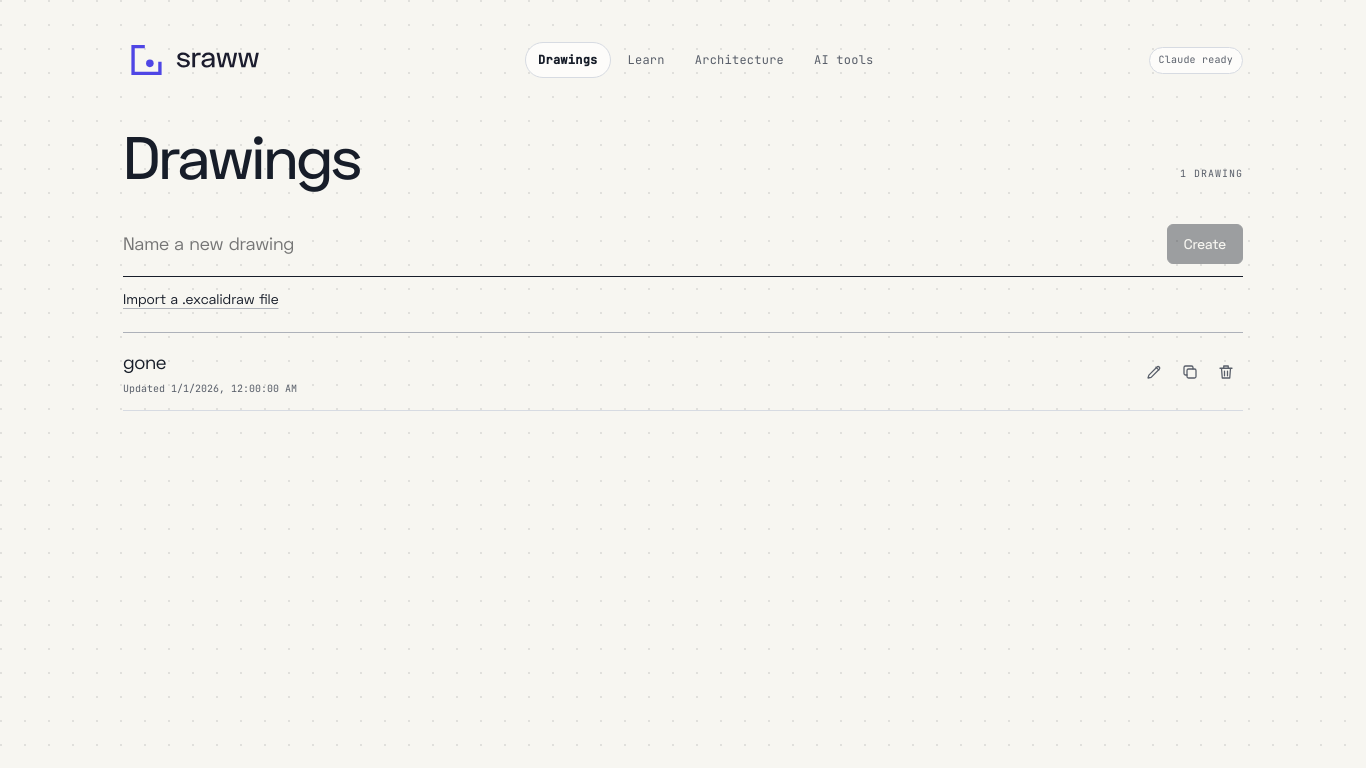
DiagramList › deletes after confirmation and refreshes the list
Step 1. Click the button named "Delete gone" → (1226, 372), box top-left (1209, 355), bottom-right (1243, 389)
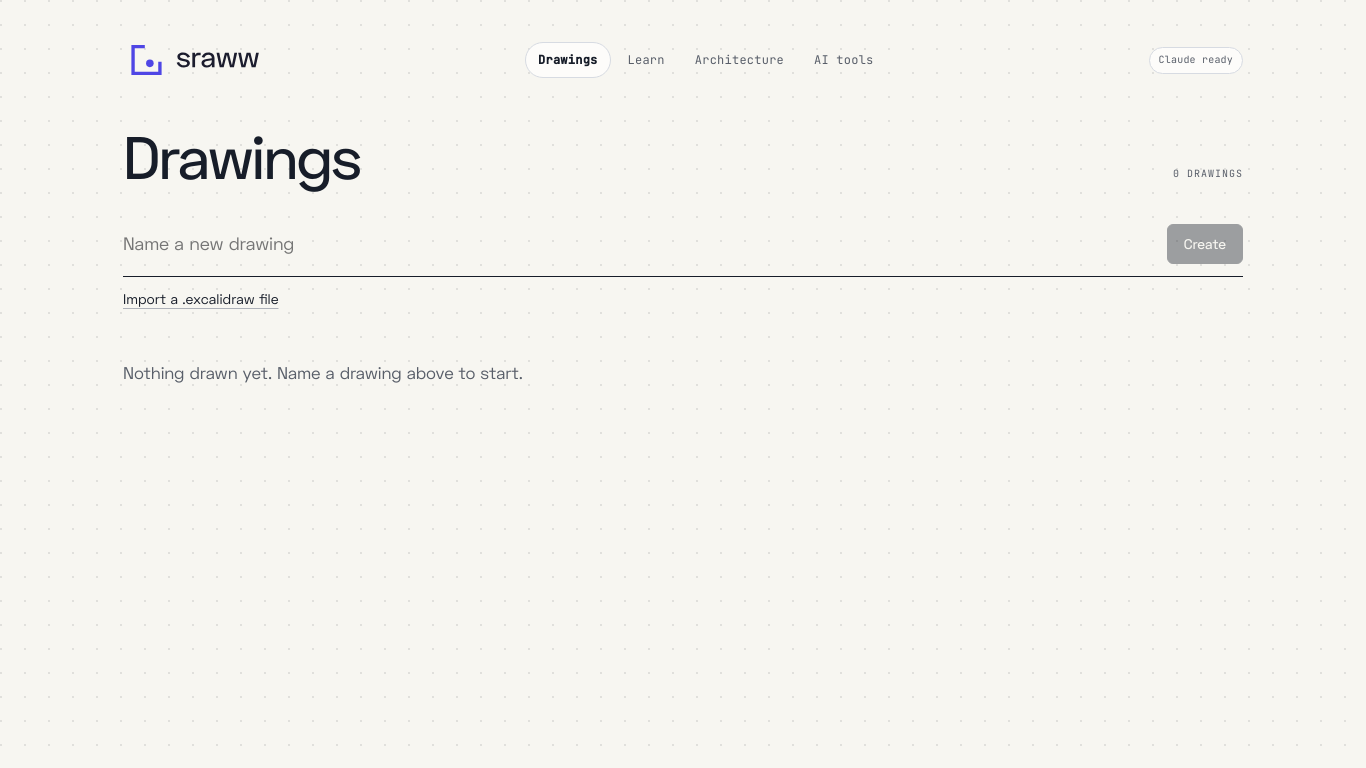
expect the text "Nothing drawn yet. Name a drawing above to start." is shown: met, box top-left (123, 362), bottom-right (523, 383)
